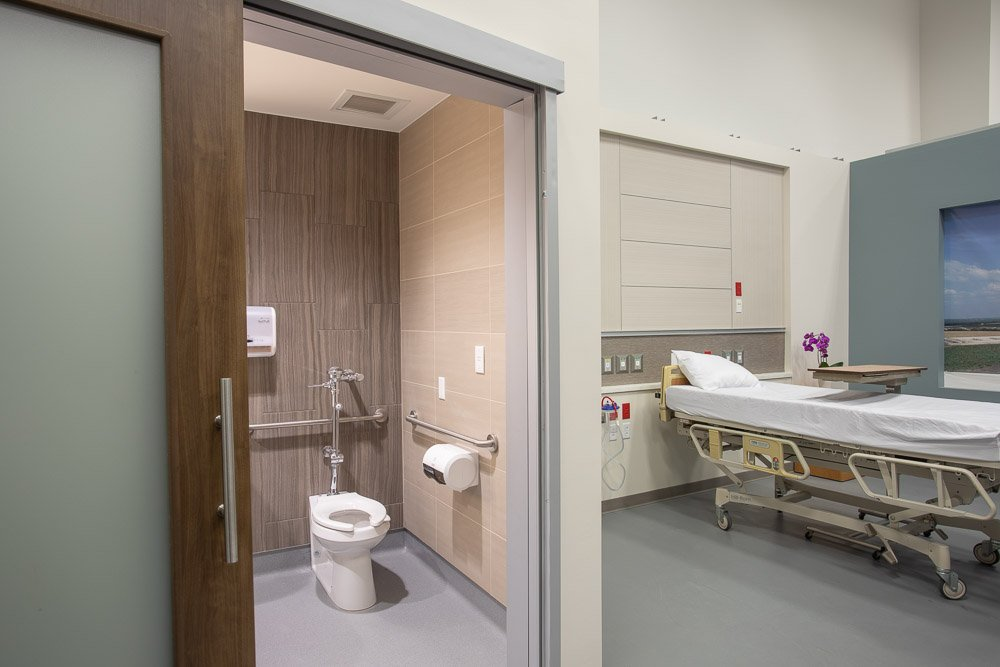bedrail: (846, 453, 996, 523), (688, 422, 811, 484)
dispenser: (423, 440, 481, 496)
door_handle: (212, 376, 249, 564)
hospital_bed: (659, 349, 1000, 599)
overbed_table: (808, 362, 928, 396)
restroom_assist_bar: (399, 411, 508, 452), (247, 404, 391, 435)
toilet: (306, 491, 390, 613)
toilet_handle: (307, 382, 331, 389)
